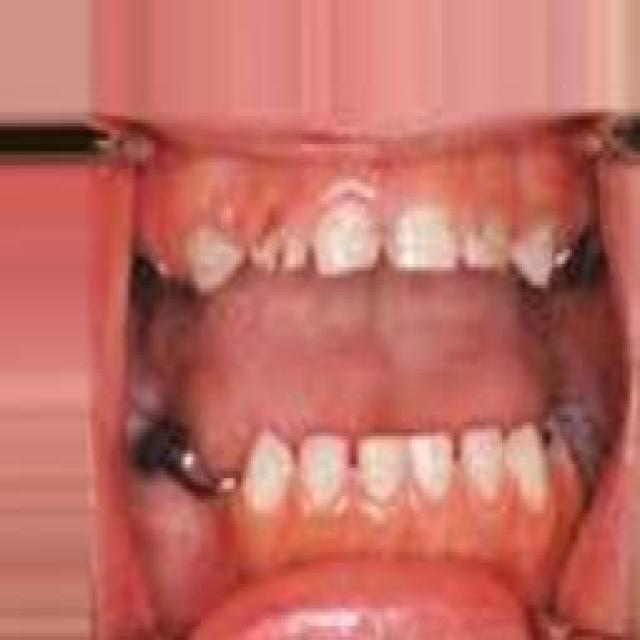caries: (247, 218, 319, 292), (181, 223, 245, 300), (460, 210, 515, 280)
